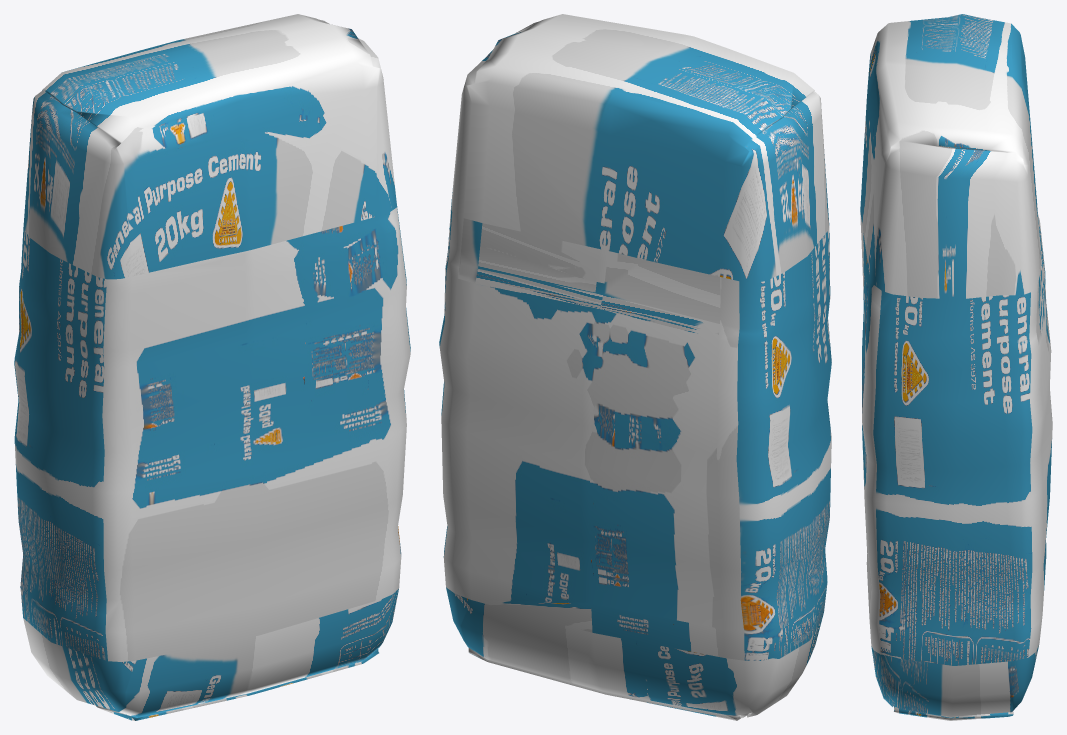
The model's file is Cement.glb.
3 views of the same model, side by side, from view 1: azimuth 30°, elevation 25°; view 2: azimuth 150°, elevation 25°; view 3: azimuth 270°, elevation 25° (orthographic). The views are drawn at different scales.
Visible parts, largest first — view 1: Cube.003; view 2: Cube.003; view 3: Cube.003.
Part boxes in pixels (left/top/right/bottom): Cube.003: left=14, top=14, right=410, bottom=720; Cube.003: left=439, top=14, right=831, bottom=720; Cube.003: left=860, top=14, right=1052, bottom=720.
Bounding box in the file's own units: 2.78 × 4.78 × 1.4.
Materials: 1 (1 with a texture image).
